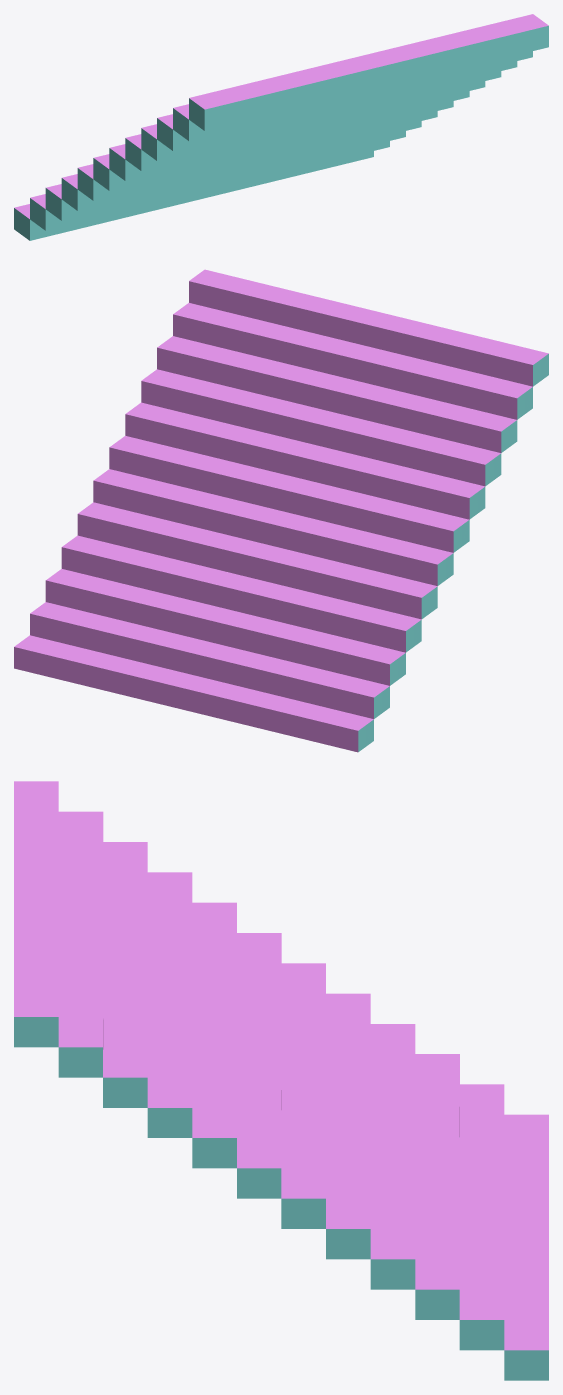
Rendered from StairsSmall.fbx.
3 renders of one model, top to bottom at view 1: azimuth 30°, elevation 25°; view 2: azimuth 150°, elevation 25°; view 3: azimuth 270°, elevation 25°, orthographic. The views are drawn at different scales.
Visible parts, largest first — view 1: StairSmall; view 2: StairSmall; view 3: StairSmall.
Boxes of the visible parts, box(x1,y1,x2,y2) form: StairSmall: box(14, 14, 548, 240); StairSmall: box(14, 269, 548, 752); StairSmall: box(14, 781, 548, 1380).
Bounding box in the file's own units: 2.5 × 1.8 × 2.4.
